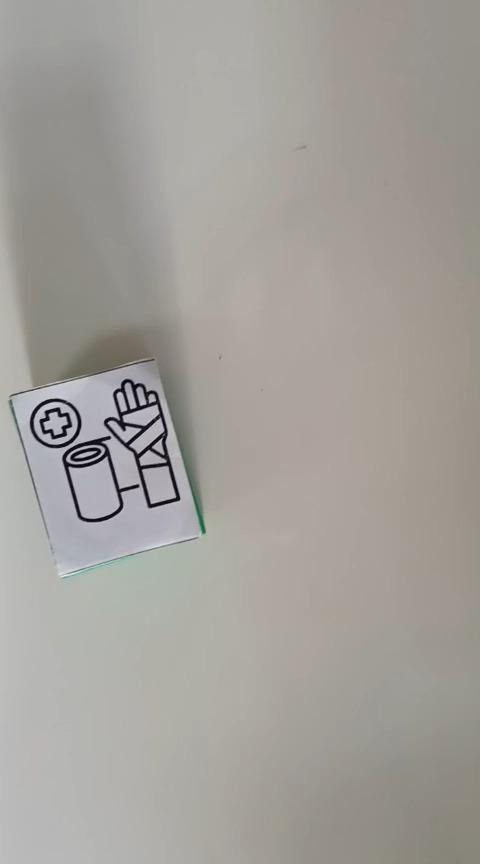Bandages: (10, 356, 209, 580)
